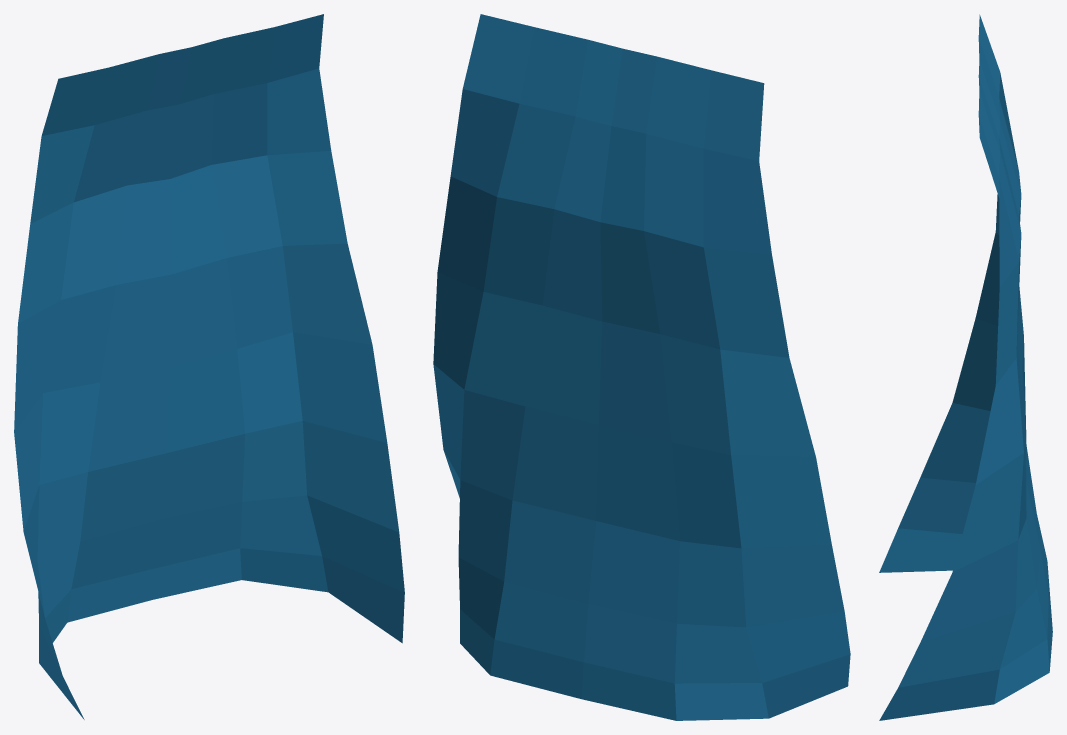
Rendered from Poncho1.fbx.
The picture shows the model from 3 angles, left to right: view 1: azimuth 30°, elevation 25°; view 2: azimuth 150°, elevation 25°; view 3: azimuth 270°, elevation 25°; orthographic projection. The views are drawn at different scales.
Parts seen in each view (by area): view 1: Plane.002; view 2: Plane.002; view 3: Plane.002.
Part boxes in pixels (left/top/right/bottom): Plane.002: left=14, top=14, right=404, bottom=719; Plane.002: left=433, top=14, right=850, bottom=720; Plane.002: left=879, top=14, right=1052, bottom=720.
Size of the model in its own units: 0.5821 by 0.9137 by 0.2519.
